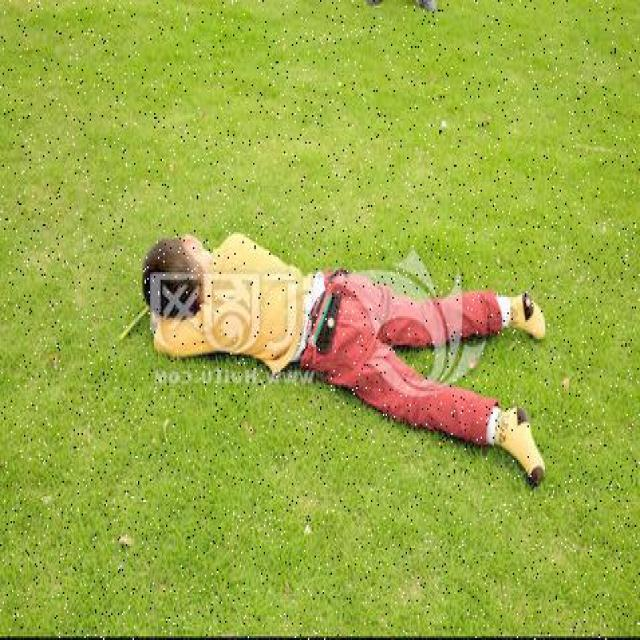fall: (142, 230, 553, 485)
